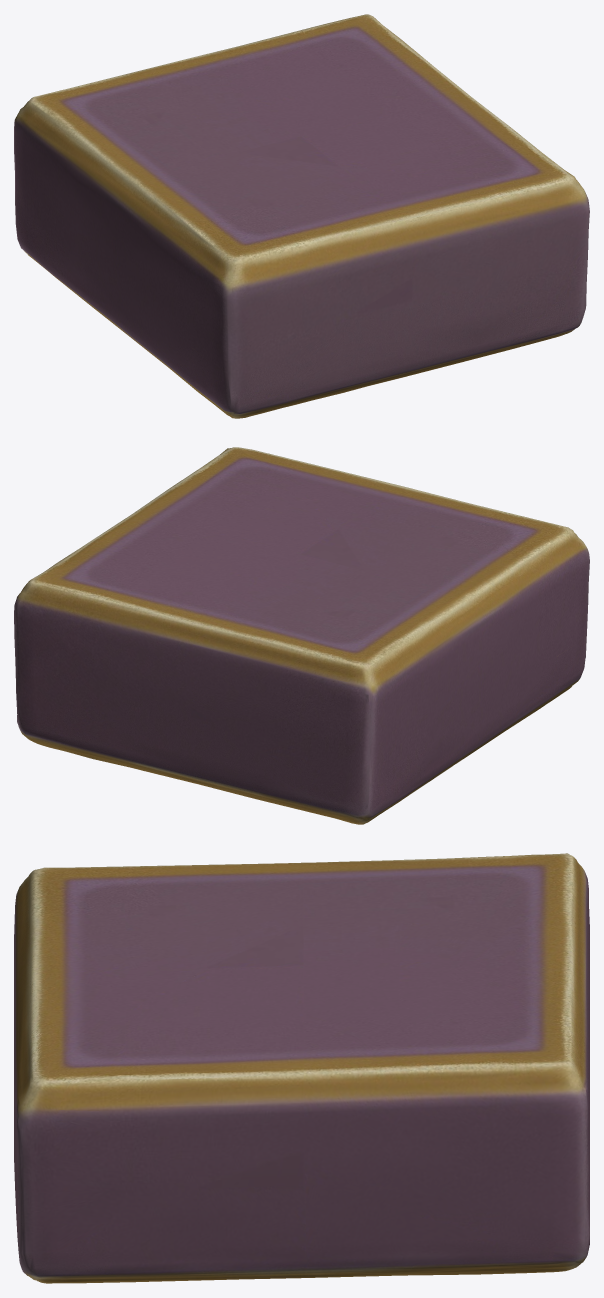
The model's file is tripo_convert_f2d72426-8a8f-48b5-962d-9807baaeeeae.fbx.
3 renders of one model, top to bottom at view 1: azimuth 30°, elevation 25°; view 2: azimuth 150°, elevation 25°; view 3: azimuth 270°, elevation 25°, orthographic. The views are drawn at different scales.
Parts seen in each view (by area): view 1: tripo_node_f2d72426; view 2: tripo_node_f2d72426; view 3: tripo_node_f2d72426.
Part boxes in pixels (x1,y1,x2,y2): tripo_node_f2d72426: (14,14,589,418); tripo_node_f2d72426: (14,447,589,824); tripo_node_f2d72426: (14,853,589,1283).
Size of the model in its own units: 0.9551 by 0.4434 by 0.998.
1 material, 1 textured.
